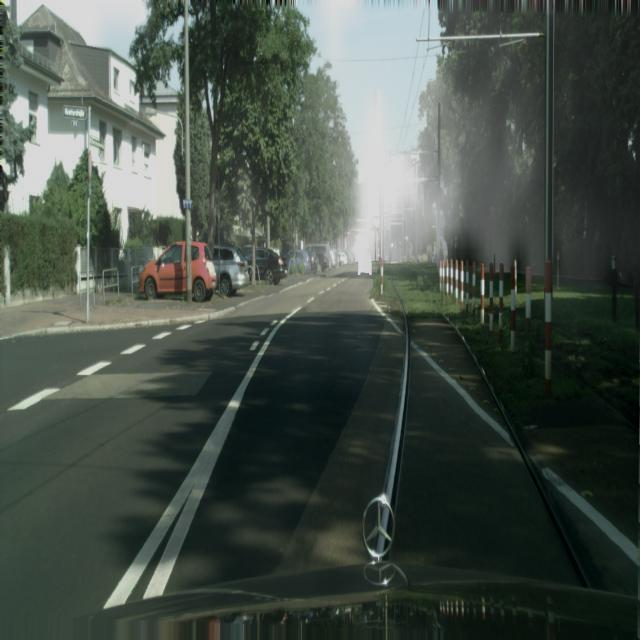truck: (138, 241, 217, 302), (212, 244, 250, 297), (241, 246, 287, 284), (309, 242, 333, 272), (287, 250, 310, 275)
